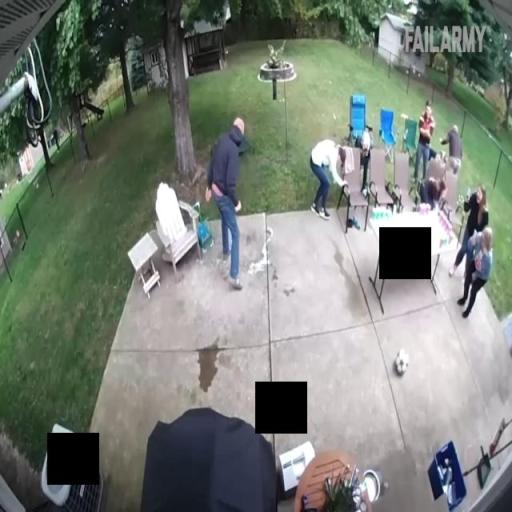Fall: (310, 141, 348, 218), (439, 120, 464, 174), (418, 172, 446, 208)
